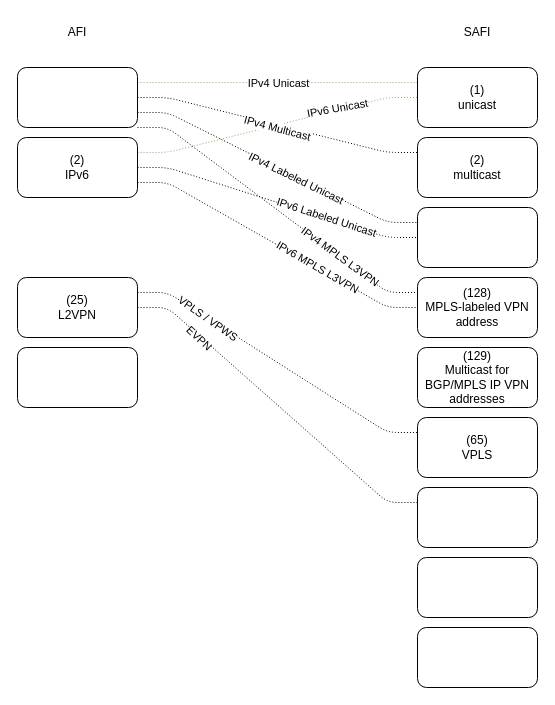
The diagram is 555 pixels wide and 705 high, and some of its shapes have lost their labels. Here are the shapes that lost their labels. From the top down, the centre of each, then its label:
At (77,97): "(1) IPv4".
At (477,237): "(4) NLRI with MPLS Labels".
At (477,517): "(70) BGP EVPNs".
